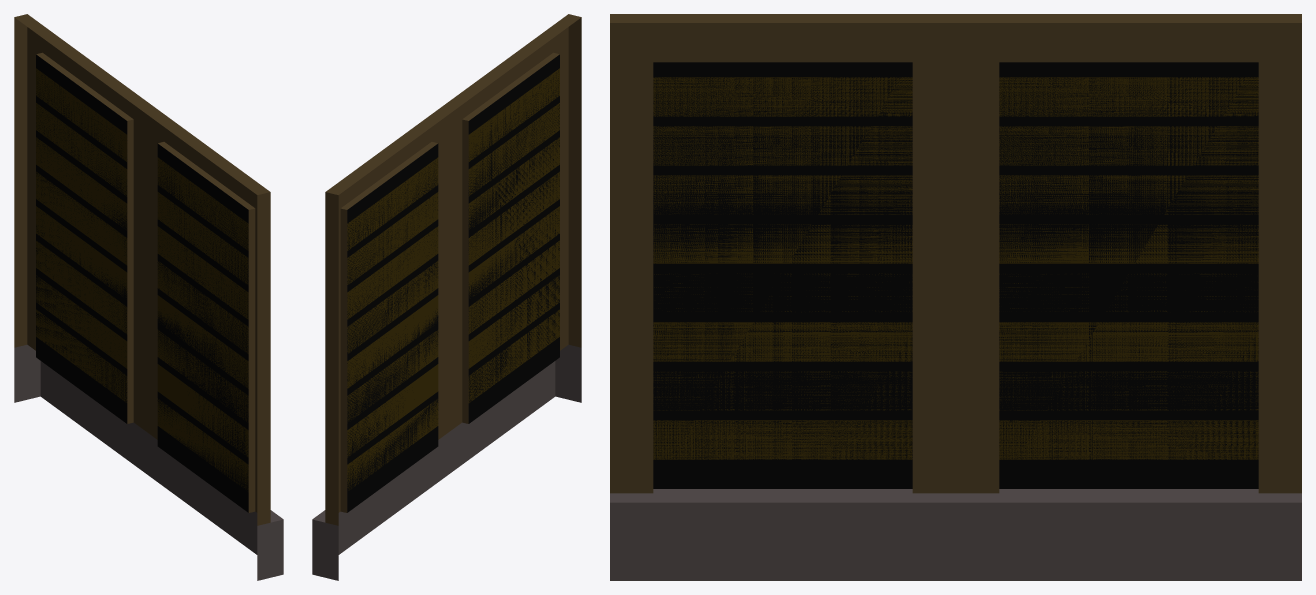
File: model_loc_1838_q.obj
The picture shows the model from 3 angles, left to right: view 1: azimuth 30°, elevation 25°; view 2: azimuth 150°, elevation 25°; view 3: azimuth 270°, elevation 25°; orthographic projection. The views are drawn at different scales.
Visible parts, largest first — view 1: 2116; view 2: 2116; view 3: 2116.
Part boxes in pixels (left/top/right/bottom): 2116: left=14, top=14, right=283, bottom=580; 2116: left=312, top=14, right=581, bottom=580; 2116: left=610, top=14, right=1301, bottom=580.
Size of the model in its own units: 8 by 112 by 128.
